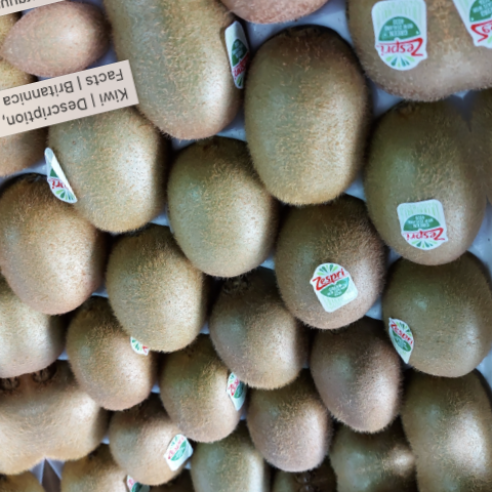kiwi: (211, 7, 409, 239), (25, 73, 192, 262), (338, 95, 492, 288), (109, 0, 282, 166), (0, 141, 126, 335), (87, 207, 229, 376), (291, 292, 428, 455), (260, 186, 392, 345), (53, 281, 177, 427), (139, 325, 263, 457), (198, 282, 316, 414)
